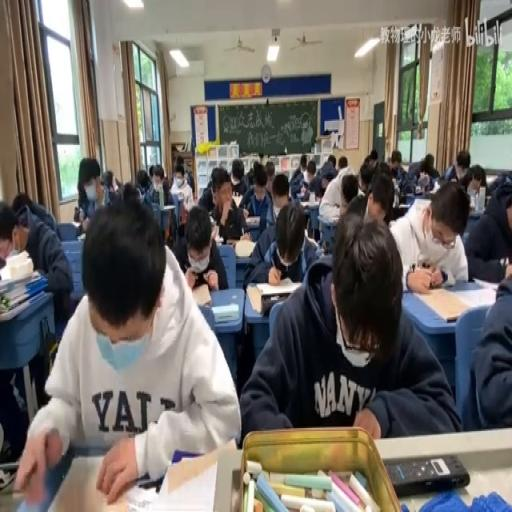calculator: (40, 454, 118, 510), (0, 288, 46, 322), (0, 264, 38, 294), (253, 279, 298, 294), (212, 300, 238, 322), (244, 283, 262, 311), (190, 282, 212, 304), (234, 238, 256, 258), (316, 209, 338, 225), (302, 230, 318, 249), (394, 202, 410, 219), (169, 189, 184, 206), (466, 204, 482, 218), (298, 196, 318, 206), (403, 192, 416, 205), (230, 194, 242, 208), (244, 214, 260, 224), (213, 234, 223, 244), (300, 182, 307, 196), (428, 185, 440, 193), (76, 230, 85, 240), (160, 204, 174, 210), (400, 164, 410, 172), (210, 216, 216, 225)
paper: (16, 195, 240, 506), (241, 212, 454, 439), (388, 176, 469, 289), (466, 266, 512, 431), (461, 173, 512, 281), (174, 204, 228, 292), (317, 160, 361, 224), (12, 191, 58, 236), (240, 165, 273, 225), (148, 163, 173, 212), (197, 163, 222, 212), (0, 202, 19, 264), (76, 155, 102, 198), (406, 152, 438, 186), (443, 148, 471, 181), (226, 156, 248, 196), (486, 169, 512, 195), (98, 168, 120, 198), (358, 160, 376, 194), (387, 148, 405, 181), (466, 165, 486, 193), (271, 173, 289, 202), (72, 202, 89, 230), (122, 182, 140, 205), (182, 169, 194, 195), (136, 168, 150, 190), (414, 180, 430, 194), (364, 148, 378, 163), (378, 162, 391, 176), (392, 184, 400, 206), (244, 168, 254, 185), (265, 161, 274, 179), (327, 154, 337, 168), (174, 155, 184, 169), (315, 182, 325, 196), (258, 151, 268, 165), (338, 156, 347, 170), (306, 168, 315, 180), (300, 155, 306, 171), (147, 164, 154, 176), (176, 175, 182, 186)
person: (384, 452, 470, 496), (261, 292, 290, 314), (0, 460, 18, 492), (137, 475, 163, 489), (226, 238, 239, 248), (321, 239, 329, 253)
